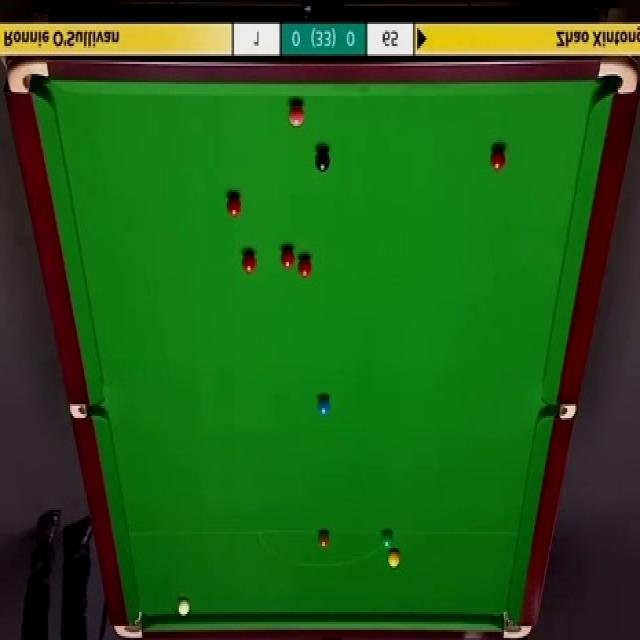pocket: (595, 57, 640, 98), (9, 58, 52, 98), (500, 608, 532, 640), (112, 611, 146, 640), (540, 403, 577, 422), (66, 406, 102, 419)
